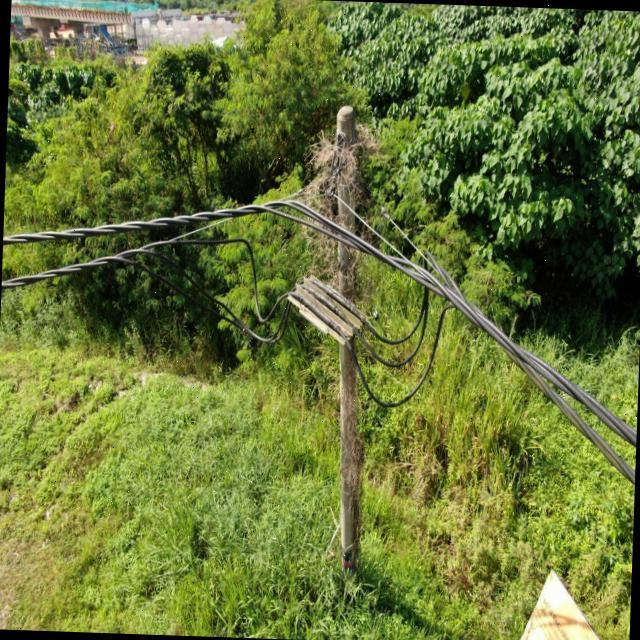critical vegetation: (283, 100, 388, 615)
